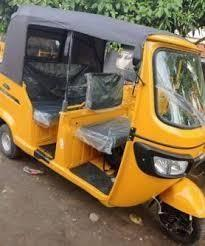keke: (5, 1, 205, 241)
